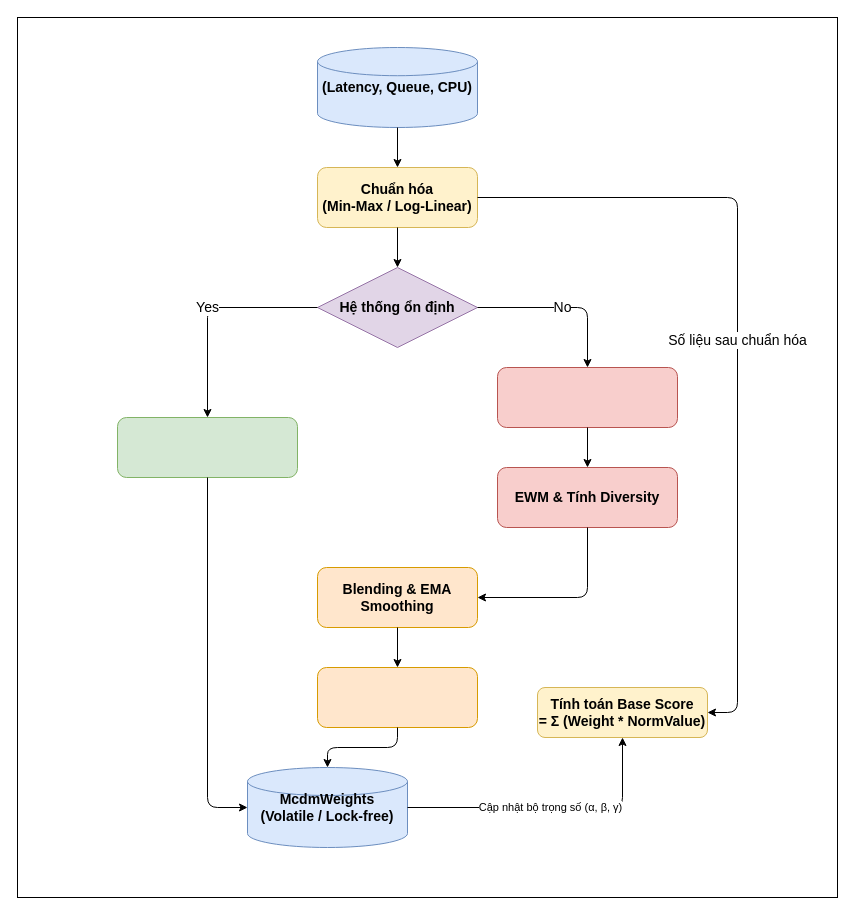
The diagram is 855 pixels wide and 915 high, and some of its shapes have lost their labels. The box of each missing label's shape, as (x1, y1, x2, y2) in pixels:
AHP Fallback (α=0.648, β=0.230, γ=0.122): (116, 416, 298, 478)
Badness Matrix + Epsilon: (496, 366, 678, 428)
Cắt xén biên (Clamping): (316, 666, 478, 728)
